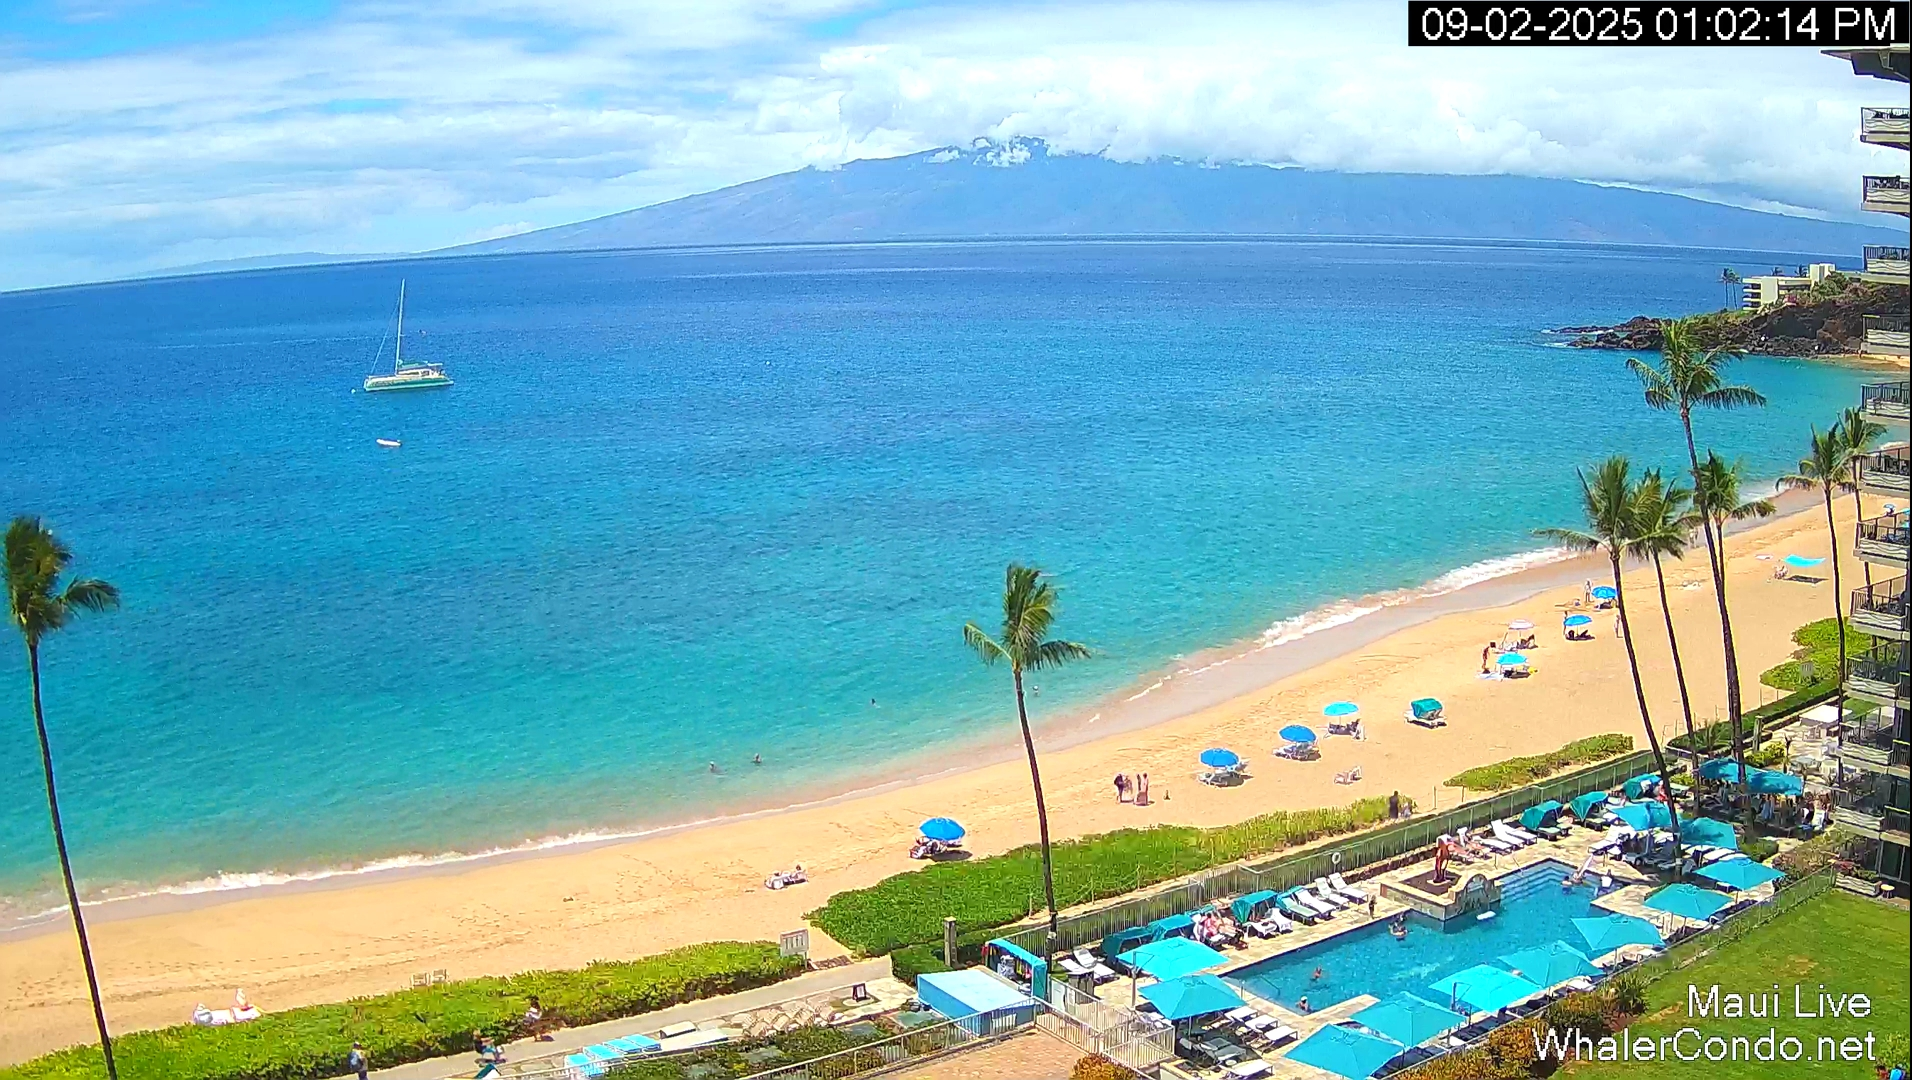boat: (362, 278, 454, 392), (376, 438, 402, 447)
person: (473, 1030, 506, 1063), (347, 1042, 369, 1079), (535, 1025, 555, 1042), (1114, 773, 1125, 803), (1389, 790, 1400, 819), (1140, 772, 1149, 805), (1481, 646, 1491, 672), (1124, 774, 1133, 802), (1613, 614, 1623, 638), (1875, 1065, 1890, 1080), (1584, 579, 1593, 603), (1368, 895, 1377, 919), (1049, 911, 1058, 933), (1135, 773, 1141, 800), (752, 753, 762, 763), (1565, 630, 1575, 640), (1163, 789, 1171, 801)
